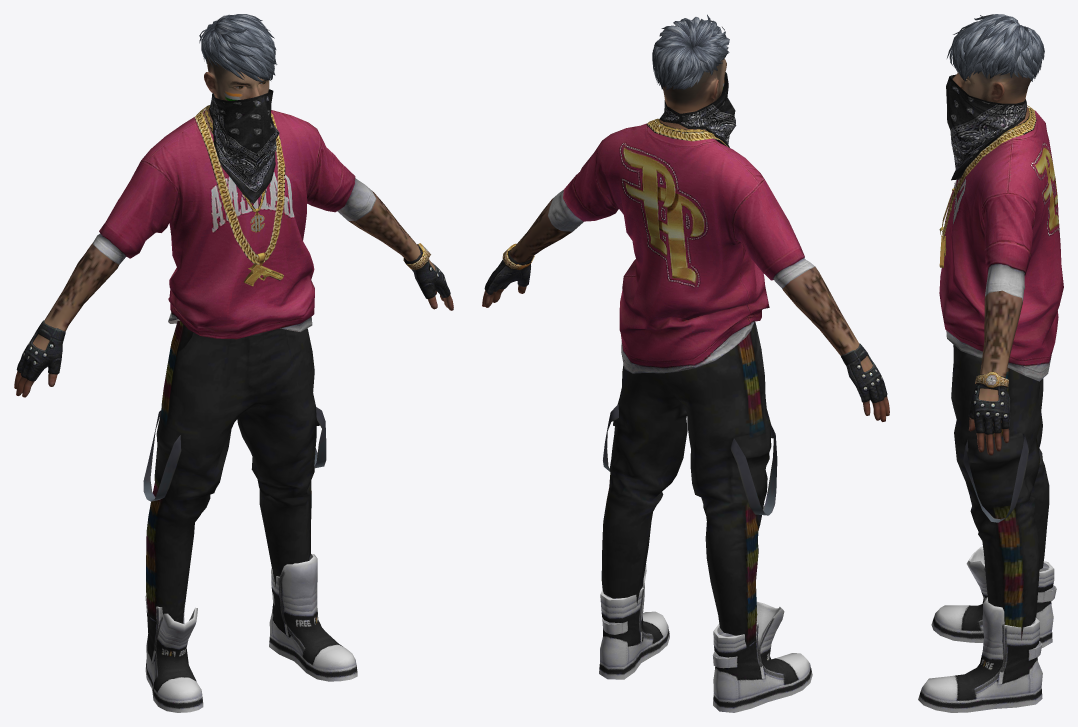
The model's file is freefire_new_hiphop_model_by_pace_gaming.glb.
3 renders of one model, left to right at view 1: azimuth 30°, elevation 25°; view 2: azimuth 150°, elevation 25°; view 3: azimuth 270°, elevation 25°, orthographic.
Parts seen in each view (by area): view 1: Object_5, Object_4, Object_3, Object_2, Object_6; view 2: Object_5, Object_4, Object_3, Object_2, Object_6; view 3: Object_5, Object_4, Object_3, Object_2, Object_6.
Part boxes in pixels (left/top/right/bottom): Object_5: left=16, top=89, right=450, bottom=381; Object_4: left=143, top=321, right=326, bottom=628; Object_3: left=145, top=553, right=357, bottom=712; Object_2: left=14, top=56, right=453, bottom=397; Object_6: left=199, top=14, right=277, bottom=81; Object_5: left=484, top=72, right=887, bottom=402; Object_4: left=601, top=322, right=777, bottom=657; Object_3: left=599, top=564, right=812, bottom=712; Object_2: left=482, top=58, right=889, bottom=421; Object_6: left=652, top=14, right=729, bottom=90; Object_5: left=939, top=74, right=1063, bottom=434; Object_4: left=951, top=344, right=1049, bottom=640; Object_3: left=918, top=546, right=1056, bottom=712; Object_2: left=952, top=71, right=1032, bottom=455; Object_6: left=947, top=14, right=1044, bottom=81.
Bounding box in the file's own units: 7.36 × 11.07 × 2.25.
5 materials, 5 textured.
